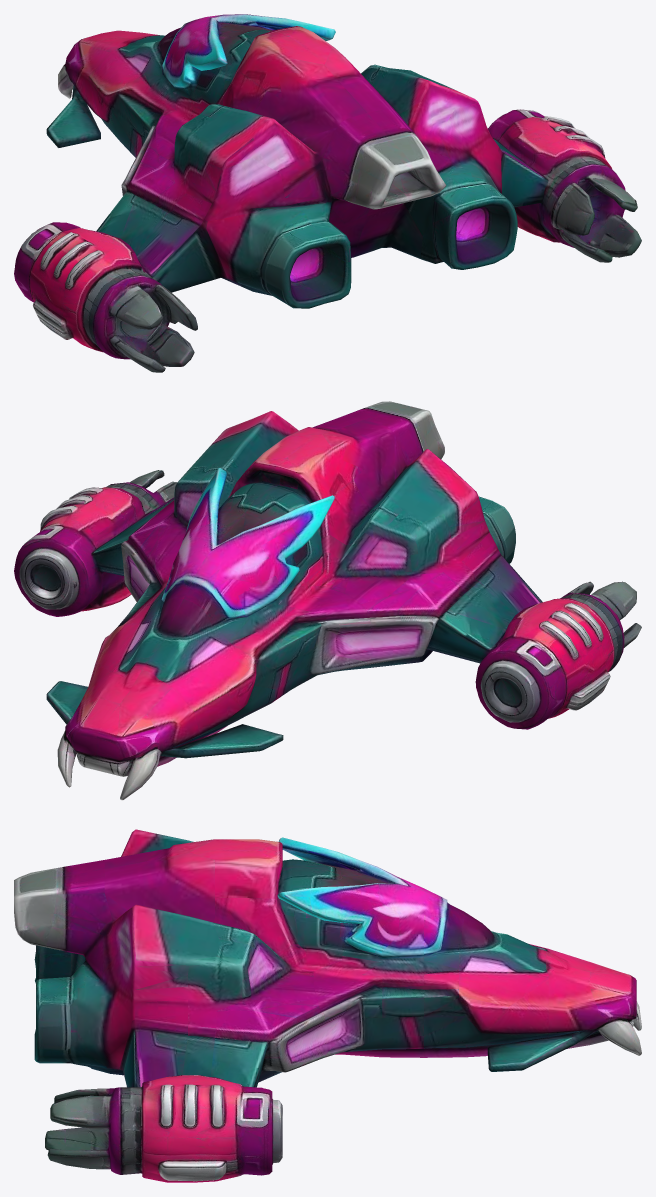
The model's file is flexly.glb.
The picture shows the model from 3 angles, top to bottom: view 1: azimuth 30°, elevation 25°; view 2: azimuth 150°, elevation 25°; view 3: azimuth 270°, elevation 25°; orthographic projection.
Visible parts, largest first — view 1: Mesh_0; view 2: Mesh_0; view 3: Mesh_0.
Part boxes in pixels (bbox=[...]): Mesh_0: bbox=[14, 14, 641, 372]; Mesh_0: bbox=[14, 401, 641, 800]; Mesh_0: bbox=[14, 829, 641, 1182].
Bounding box in the file's own units: 1.91 × 0.728 × 1.89.
1 material, 1 textured.
